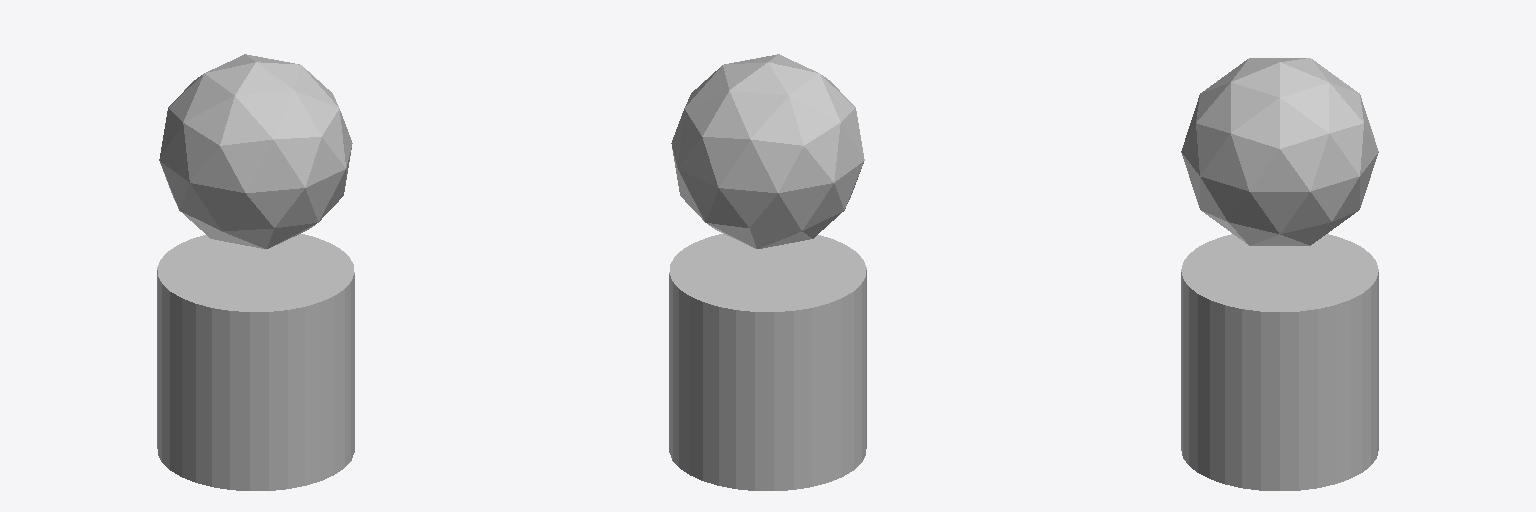
3 views of the same model, side by side, from view 1: azimuth 30°, elevation 25°; view 2: azimuth 150°, elevation 25°; view 3: azimuth 270°, elevation 25° (orthographic).
Visible parts, largest first — view 1: 円柱, ICO球; view 2: 円柱, ICO球; view 3: 円柱, ICO球.
Part boxes in pixels (x1,y1,x2,y2): 円柱: (157,234,354,490); ICO球: (159,54,352,248); 円柱: (669,234,866,490); ICO球: (671,54,864,248); 円柱: (1181,234,1378,490); ICO球: (1181,58,1378,245).
Bounding box in the file's own units: 2 × 4.33 × 2.